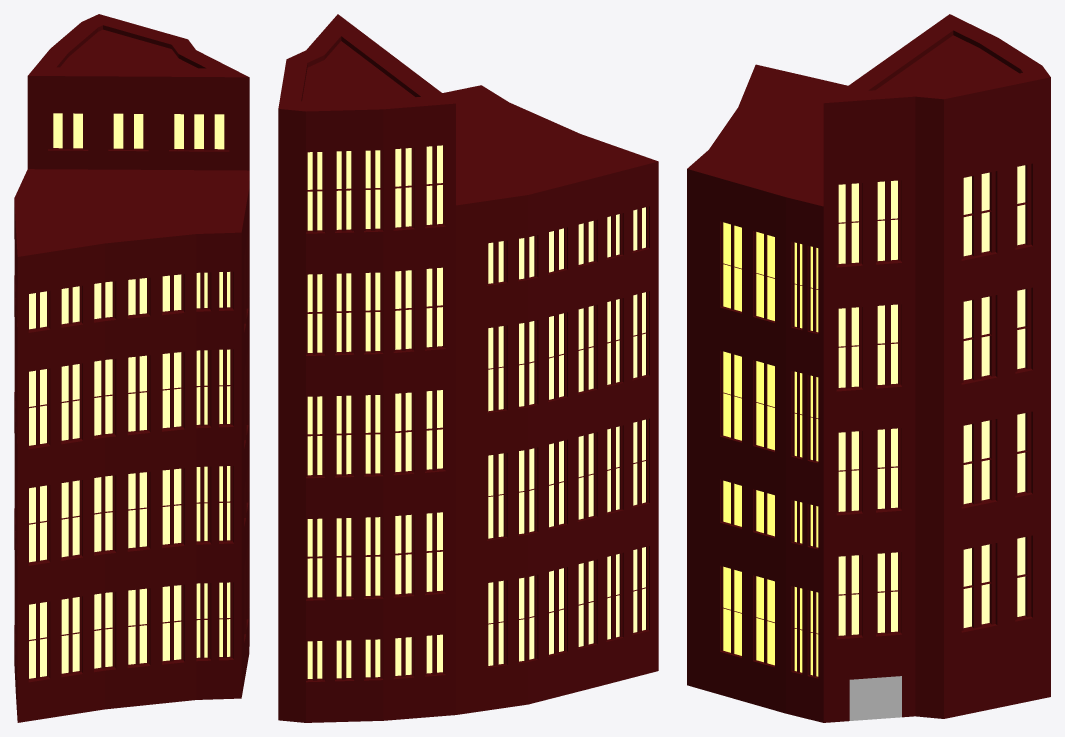
Rendered from elizabeth_tower.fbx.
3 renders of one model, left to right at view 1: azimuth 30°, elevation 25°; view 2: azimuth 150°, elevation 25°; view 3: azimuth 270°, elevation 25°, orthographic. The views are drawn at different scales.
Parts seen in each view (by area): view 1: Plane; view 2: Plane; view 3: Plane.
Part boxes in pixels (box(x1,y1,x2,y2)): Plane: box(14, 14, 249, 722); Plane: box(278, 14, 658, 722); Plane: box(687, 14, 1050, 722).
Size of the model in its own units: 1475 by 3000 by 1596.
